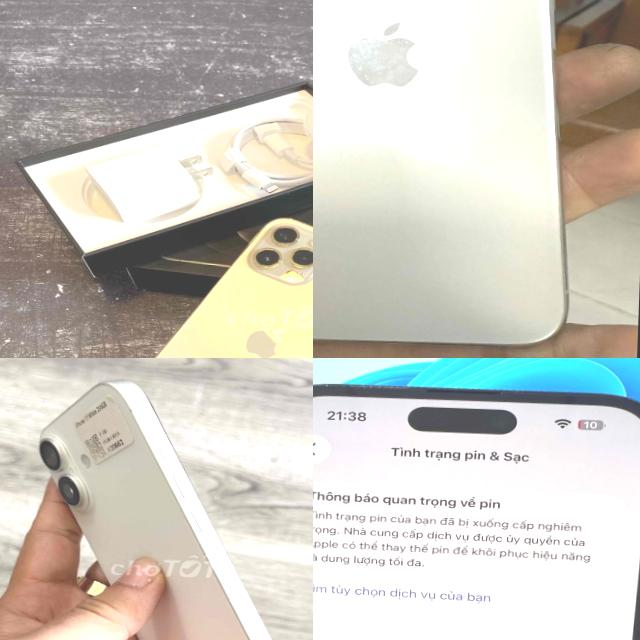gen_11: (313, 0, 606, 355)
gen_12_13: (102, 209, 313, 358)
gen_14: (313, 374, 640, 640)
gen_17: (9, 369, 313, 640)
scratch: (313, 12, 479, 108)
